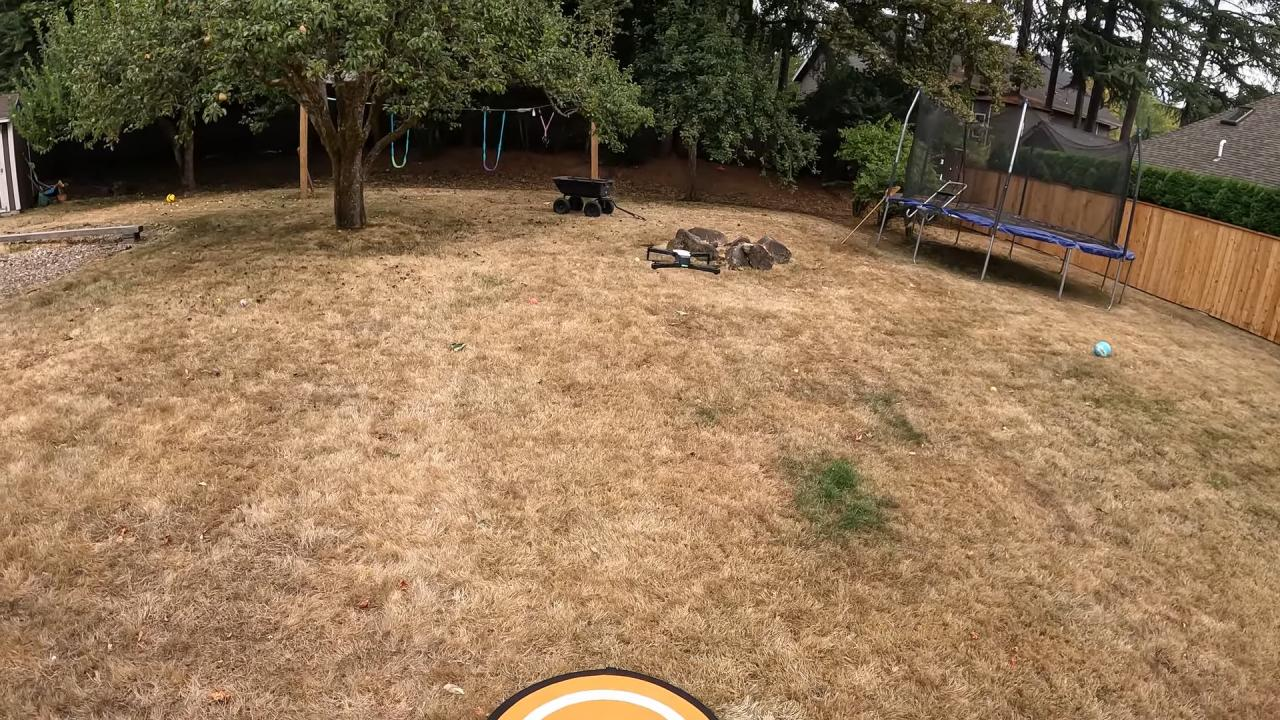Drone: (636, 236, 729, 282)
